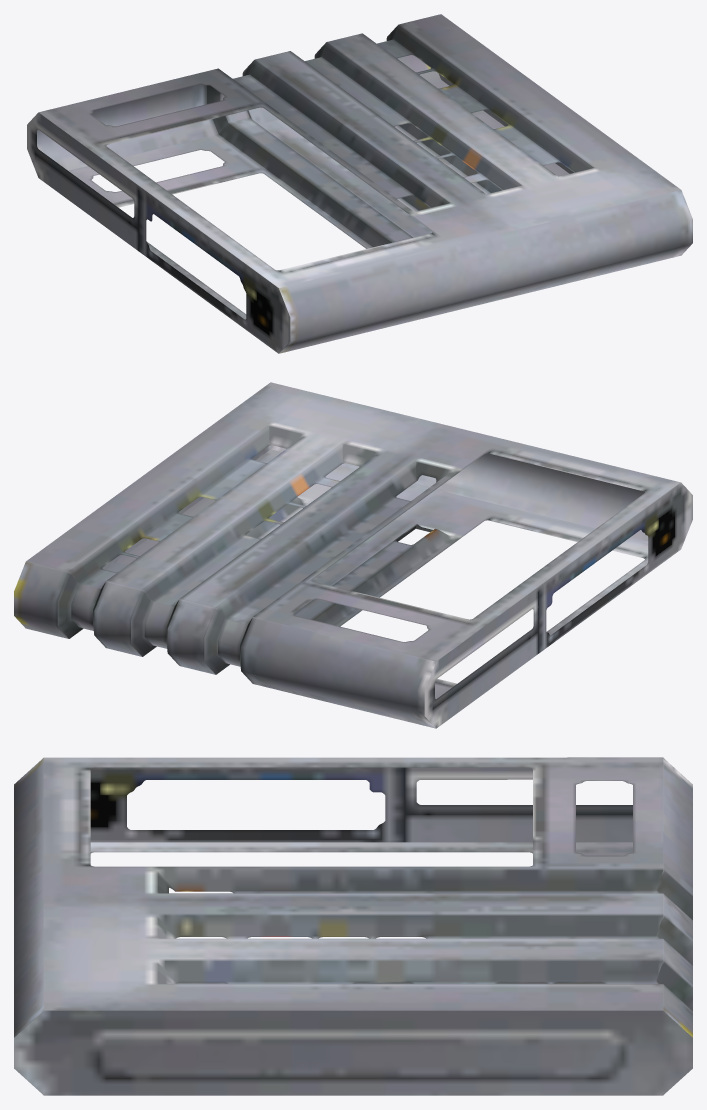
File: eqp_data_disk_s02_l0.fbx
The picture shows the model from 3 angles, top to bottom: view 1: azimuth 30°, elevation 25°; view 2: azimuth 150°, elevation 25°; view 3: azimuth 270°, elevation 25°; orthographic projection. The views are drawn at different scales.
Visible parts, largest first — view 1: mesh_node; view 2: mesh_node; view 3: mesh_node.
Part boxes in pixels (x1=…): mesh_node: x1=27, y1=14, x2=692, y2=353; mesh_node: x1=14, y1=382, x2=692, y2=728; mesh_node: x1=14, y1=757, x2=692, y2=1095.
Bounding box in the file's own units: 0.1509 × 0.0214 × 0.1558.
1 material, 1 textured.
